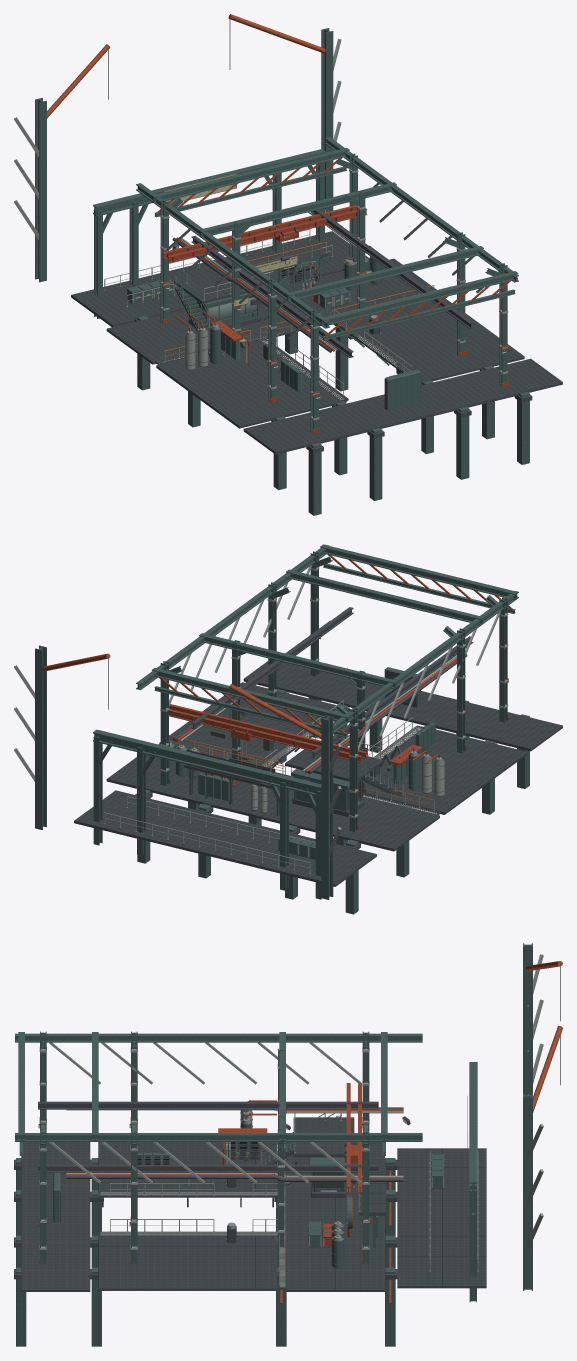
File: static.fbx
3 views of the same model, one above another, from view 1: azimuth 30°, elevation 25°; view 2: azimuth 150°, elevation 25°; view 3: azimuth 270°, elevation 25° (orthographic). The views are drawn at different scales.
Visible parts, largest first — view 1: SM_anchor_static; view 2: SM_anchor_static; view 3: SM_anchor_static.
Boxes of the visible parts, x1,y1,x2,y2 form: SM_anchor_static: (14,14,562,515); SM_anchor_static: (14,544,562,914); SM_anchor_static: (14,943,562,1346).
Size of the model in its own units: 30.19 by 24.25 by 40.68.
16 materials, 12 textured.
